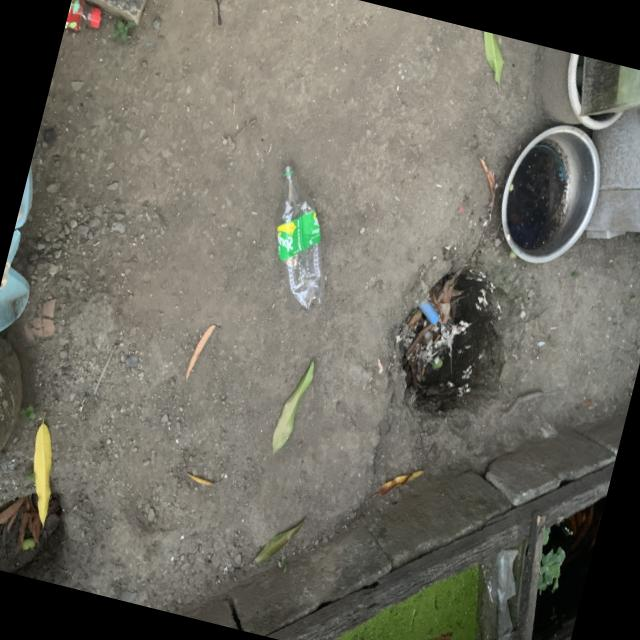Bottle: (276, 165, 323, 308)
